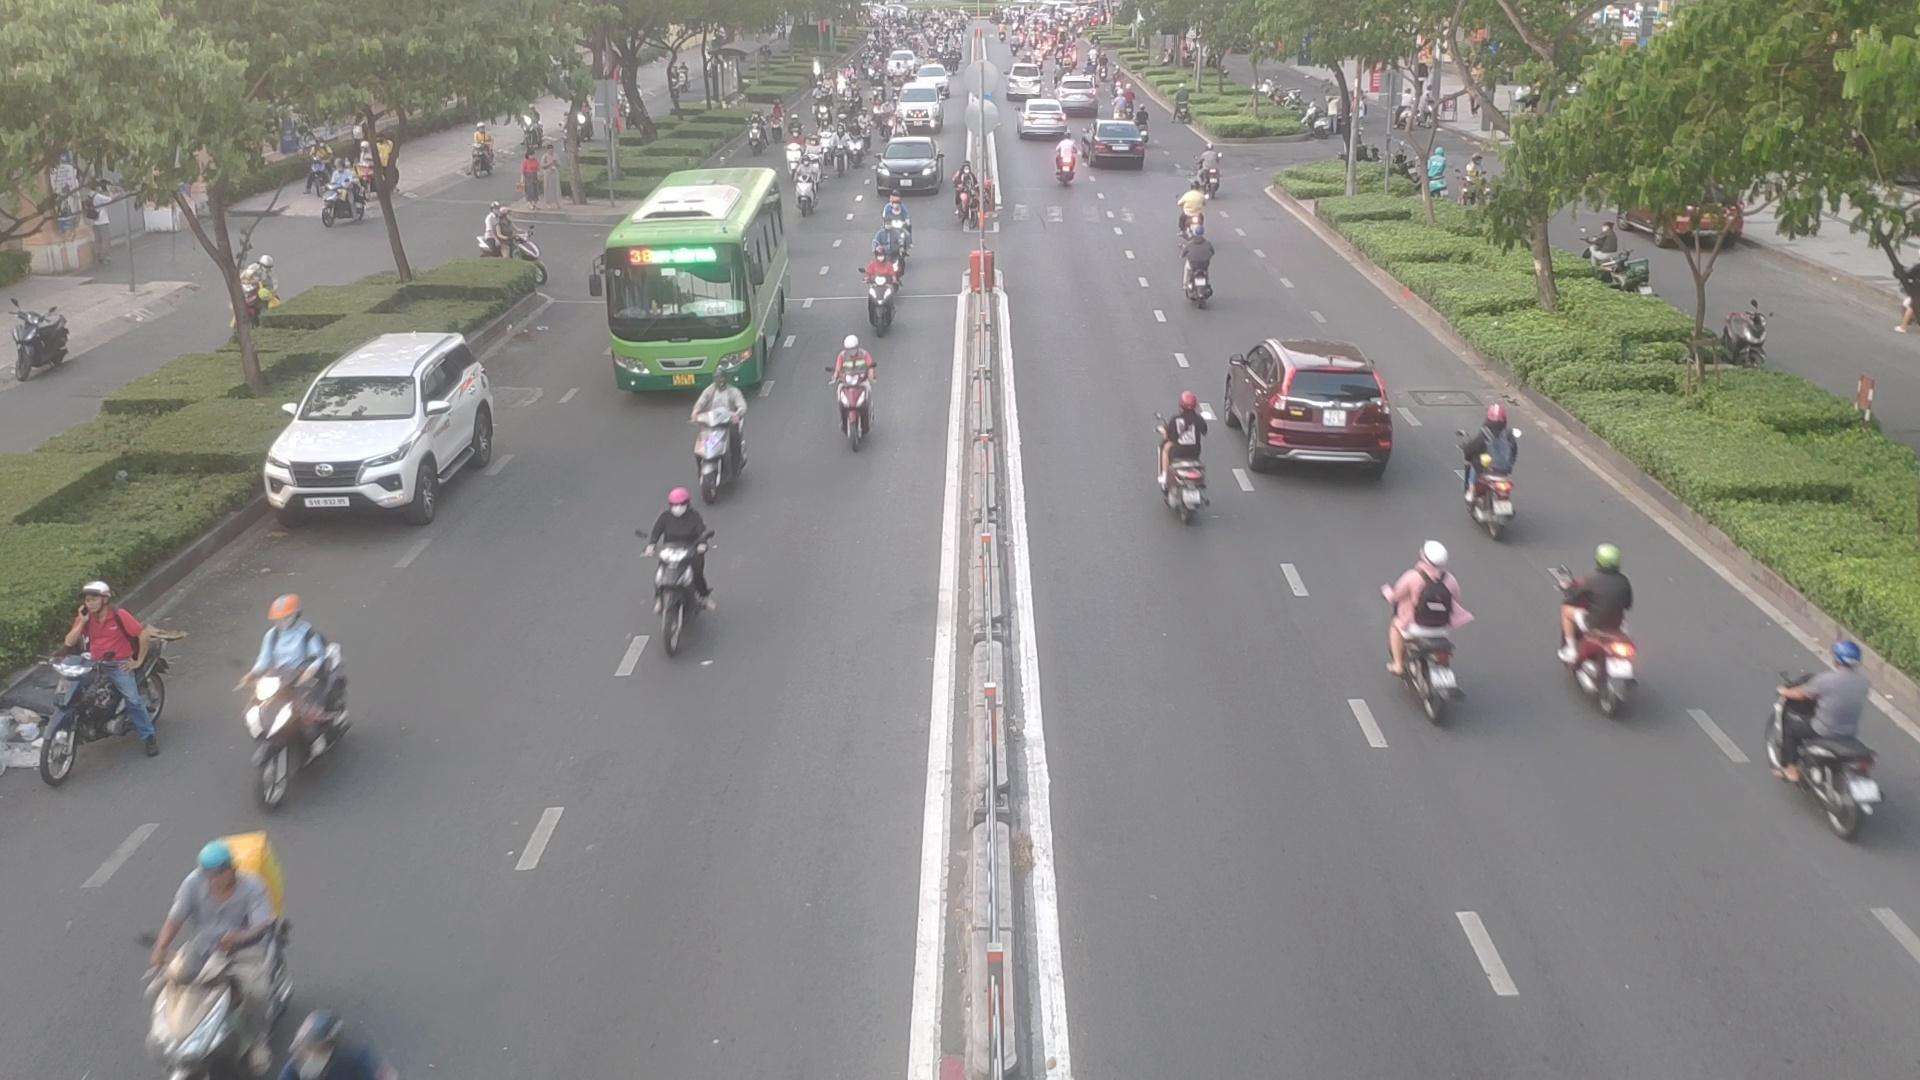bus: (596, 175, 798, 402)
car: (266, 331, 512, 526), (1218, 334, 1399, 471), (877, 138, 952, 198), (1018, 102, 1069, 140)
motorbike: (135, 837, 293, 1077), (1764, 644, 1905, 837), (18, 582, 156, 778), (233, 603, 343, 794), (1383, 556, 1481, 723), (1565, 549, 1652, 711), (640, 491, 721, 644), (1139, 396, 1208, 524), (690, 376, 760, 489), (1455, 415, 1520, 529), (823, 338, 887, 450), (856, 256, 907, 338), (1174, 233, 1217, 307), (961, 171, 1009, 235), (866, 218, 913, 266), (1048, 138, 1080, 189), (839, 123, 869, 169)
